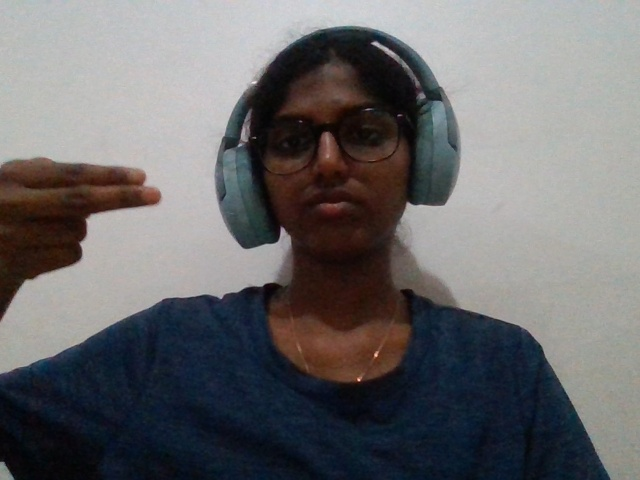H: (1, 98, 194, 364)
